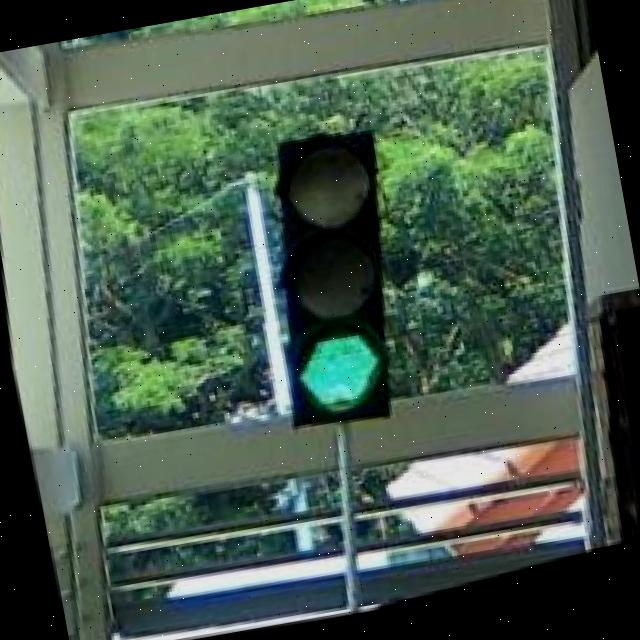green_light: (233, 124, 427, 447)
